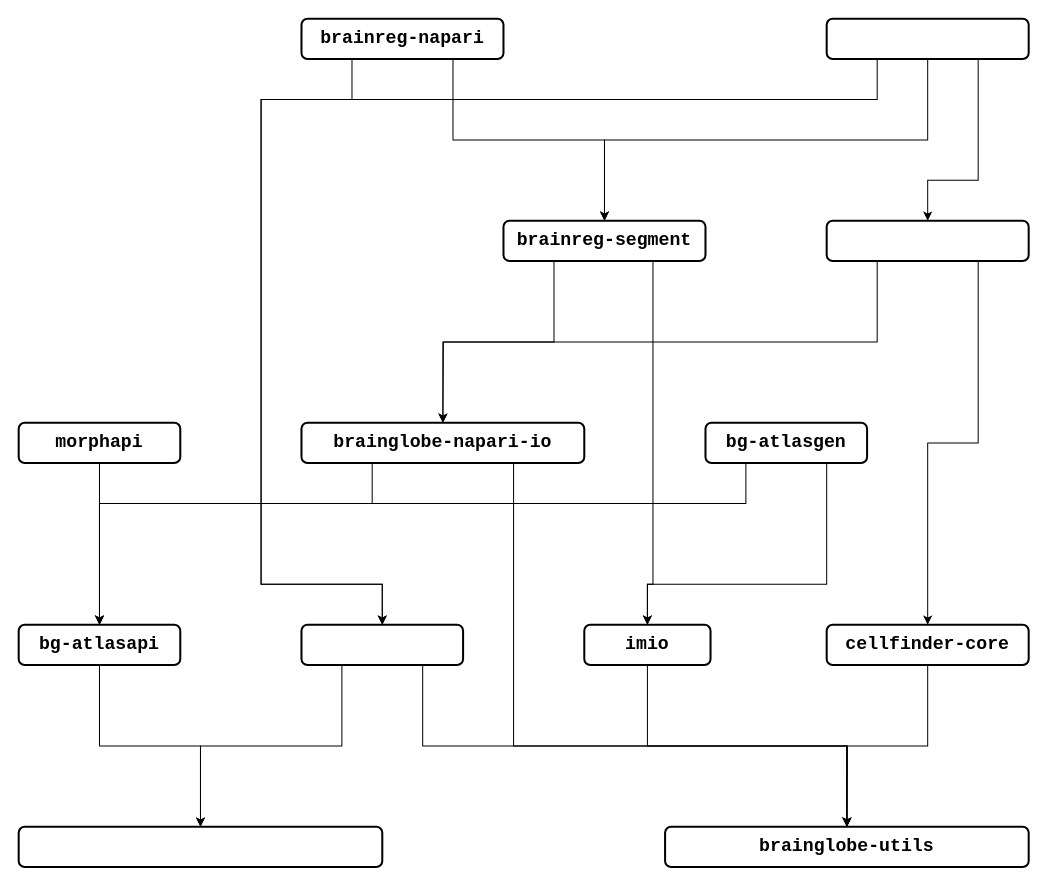
Image size: 1046x885. Some labels were removed from this diagram. The box of each missing label's shape, as (x1, y1, x2, y2) in pixels:
bg-space: (17, 825, 383, 868)
brainreg: (300, 623, 464, 666)
cellfinder: (825, 17, 1029, 60)
cellfinder-napari: (825, 219, 1029, 262)
